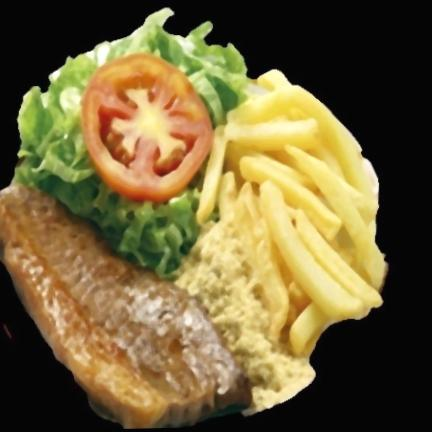meat: (0, 184, 253, 429)
potato: (199, 66, 385, 363)
salad: (22, 11, 255, 281)
tomato: (84, 54, 214, 197)
